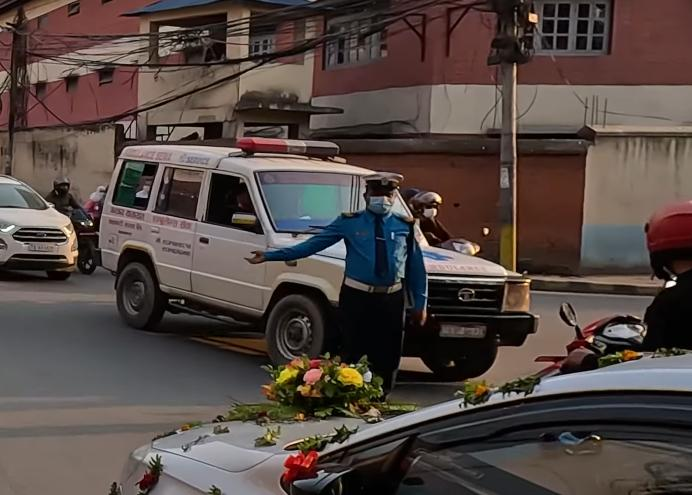ambulance: (91, 123, 539, 391)
car: (0, 172, 83, 286)
